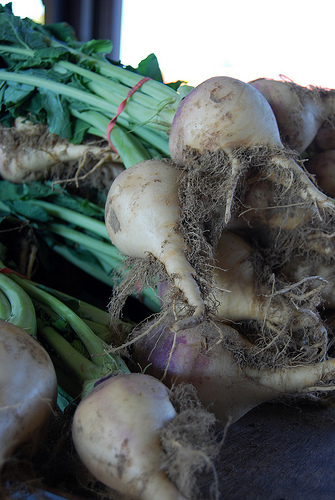turnip: (1, 73, 333, 498)
